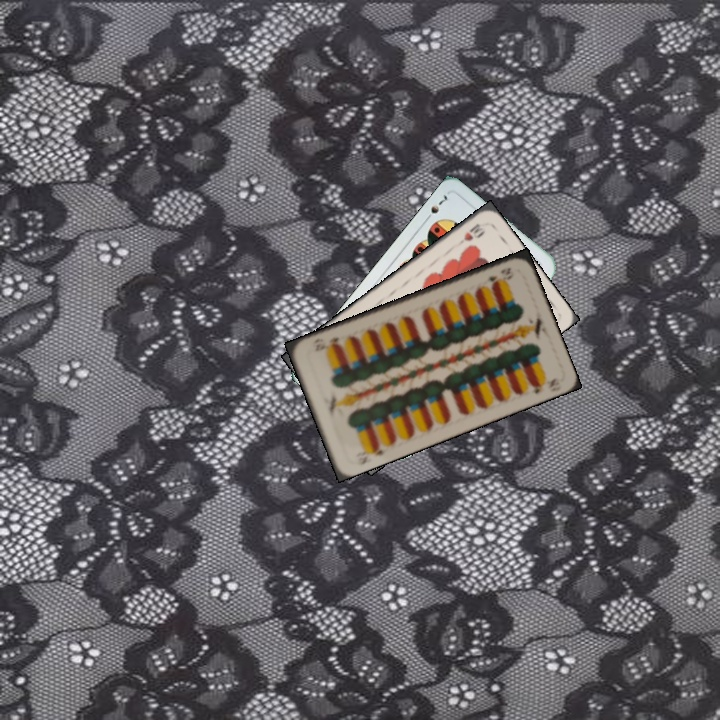E10: (352, 440, 387, 468), (479, 263, 516, 287)
H10: (460, 219, 487, 244)
S7: (421, 191, 450, 224)
